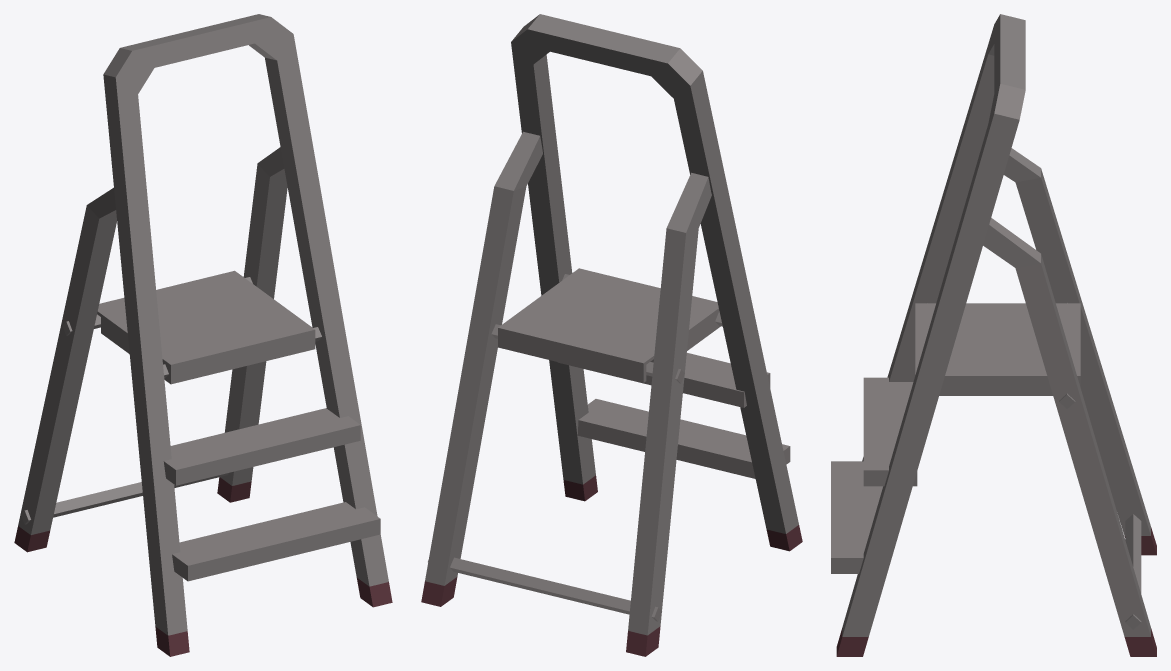
The model's file is ladder-unfolded.fbx.
3 renders of one model, left to right at view 1: azimuth 30°, elevation 25°; view 2: azimuth 150°, elevation 25°; view 3: azimuth 270°, elevation 25°, orthographic. The views are drawn at different scales.
Visible parts, largest first — view 1: ladder-unfolded; view 2: ladder-unfolded; view 3: ladder-unfolded.
Boxes of the visible parts, box(x1,y1,x2,y2) form: ladder-unfolded: box(14, 14, 392, 656); ladder-unfolded: box(421, 14, 802, 656); ladder-unfolded: box(831, 14, 1156, 656).
Bounding box in the file's own units: 0.5559 × 1.27 × 0.6789.
